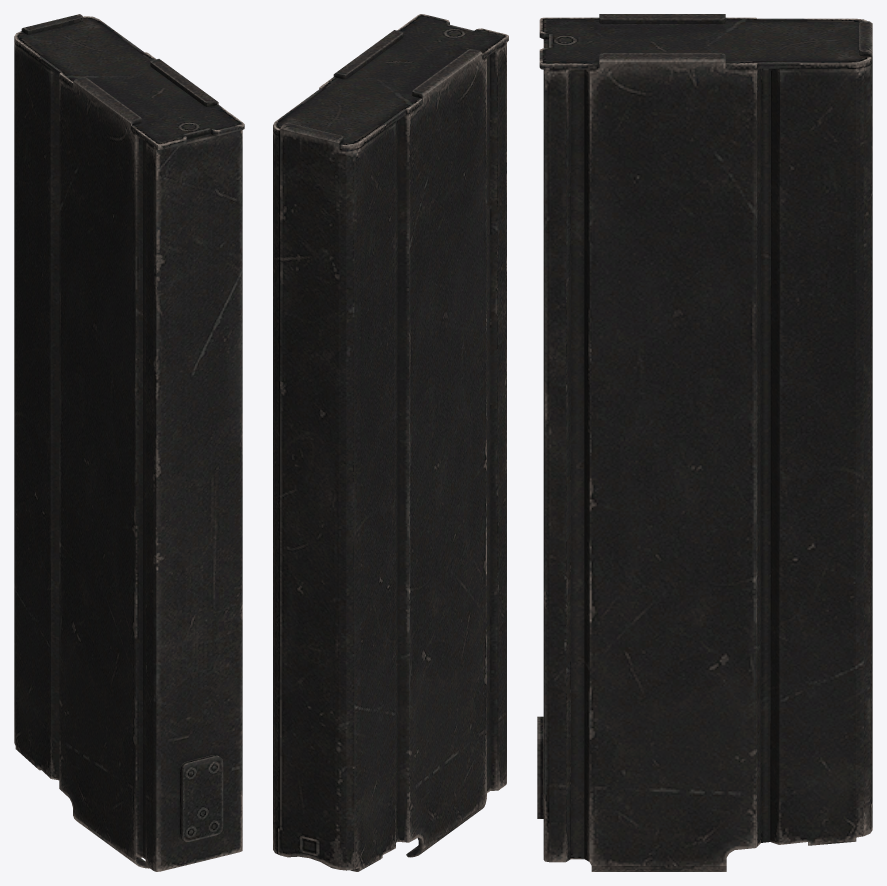
The picture shows the model from 3 angles, left to right: view 1: azimuth 30°, elevation 25°; view 2: azimuth 150°, elevation 25°; view 3: azimuth 270°, elevation 25°; orthographic projection. The views are drawn at different scales.
Parts seen in each view (by area): view 1: TW_5addcce35acfc4001a5fc635_PZ_Import; view 2: TW_5addcce35acfc4001a5fc635_PZ_Import; view 3: TW_5addcce35acfc4001a5fc635_PZ_Import.
Part boxes in pixels (x1,y1,x2,y2): TW_5addcce35acfc4001a5fc635_PZ_Import: (14,14,244,871); TW_5addcce35acfc4001a5fc635_PZ_Import: (273,14,508,871); TW_5addcce35acfc4001a5fc635_PZ_Import: (537,14,872,871).
Size of the model in its own units: 0.0146 by 0.0438 by 0.1184.
Materials: 1 (1 with a texture image).
